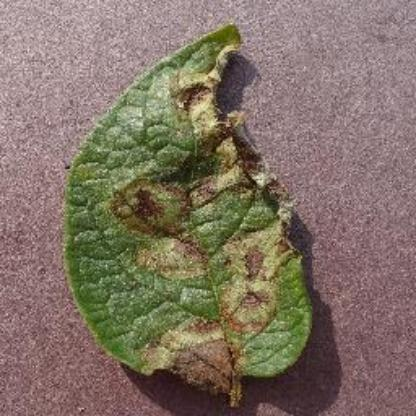Late-Blight: (47, 20, 327, 413)
